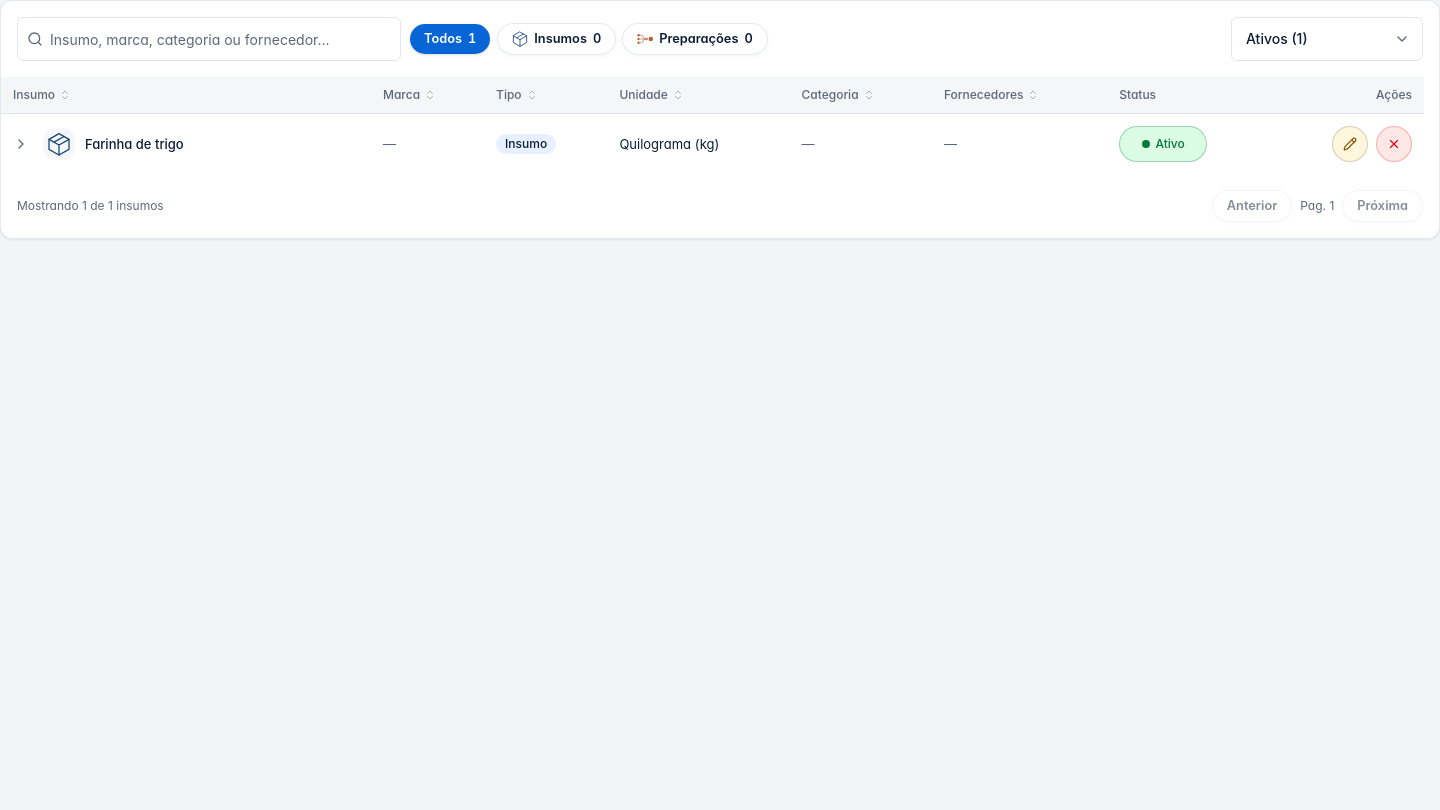
Scenario: edita INSUMO diretamente pela linha, antes de excluir, sem duplicar ao expandir
Click the button named "Editar" at (1350, 144), box [1332,126,1368,162]
(page scrolled)
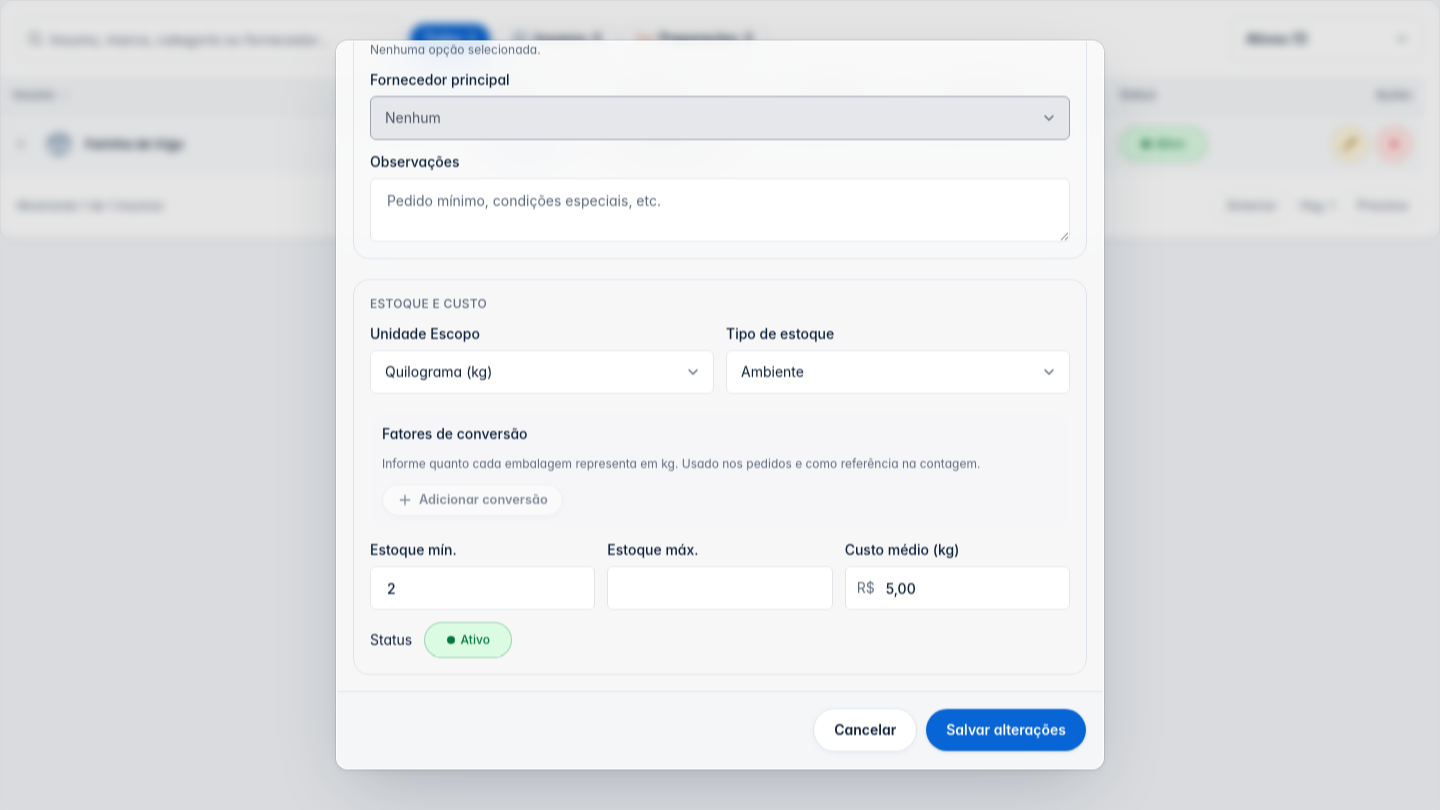
Click the button "Cancelar" at (865, 730), box [813,708,917,752]
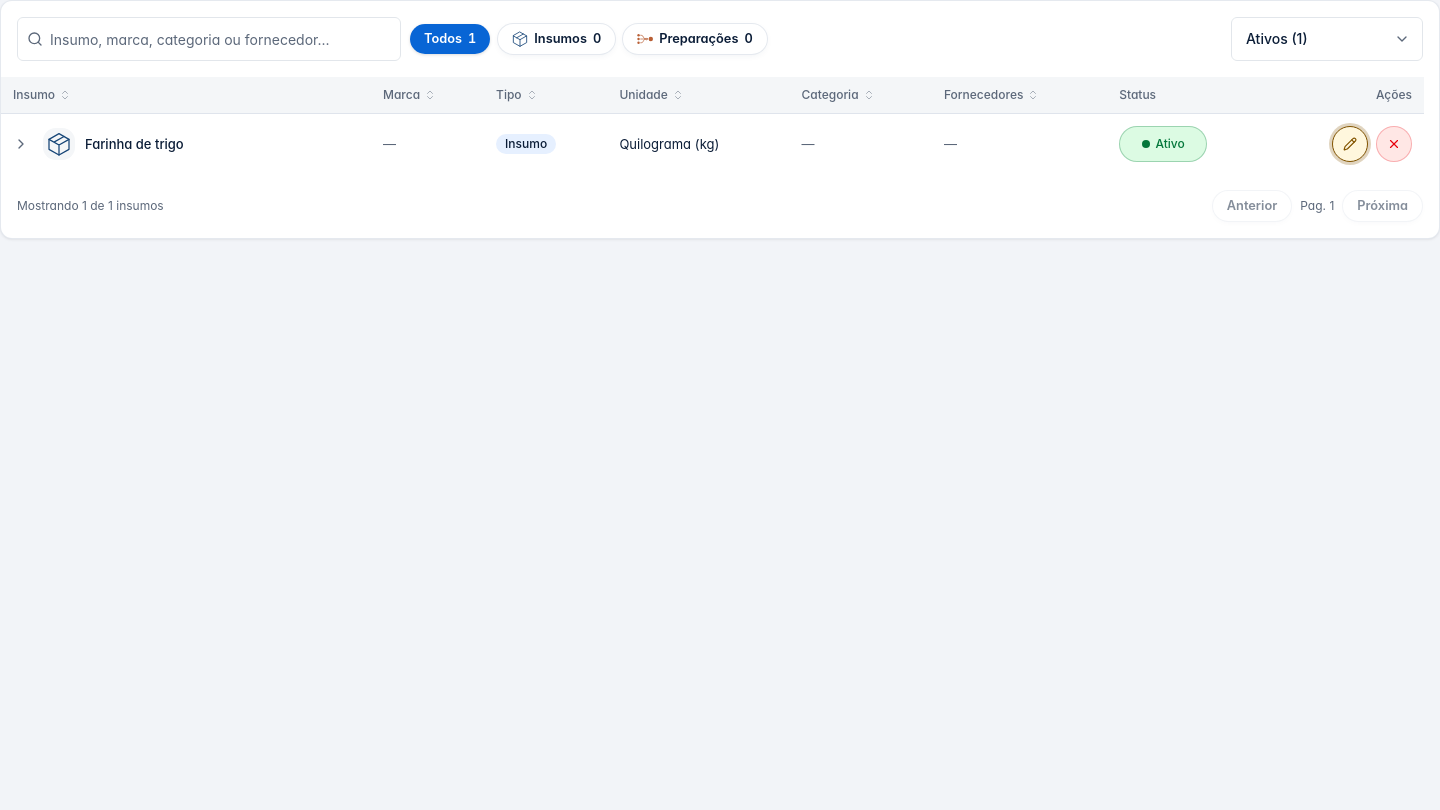
Click the button named "Abrir detalhes de Farinha de trigo" at (21, 144), box [9,132,33,156]
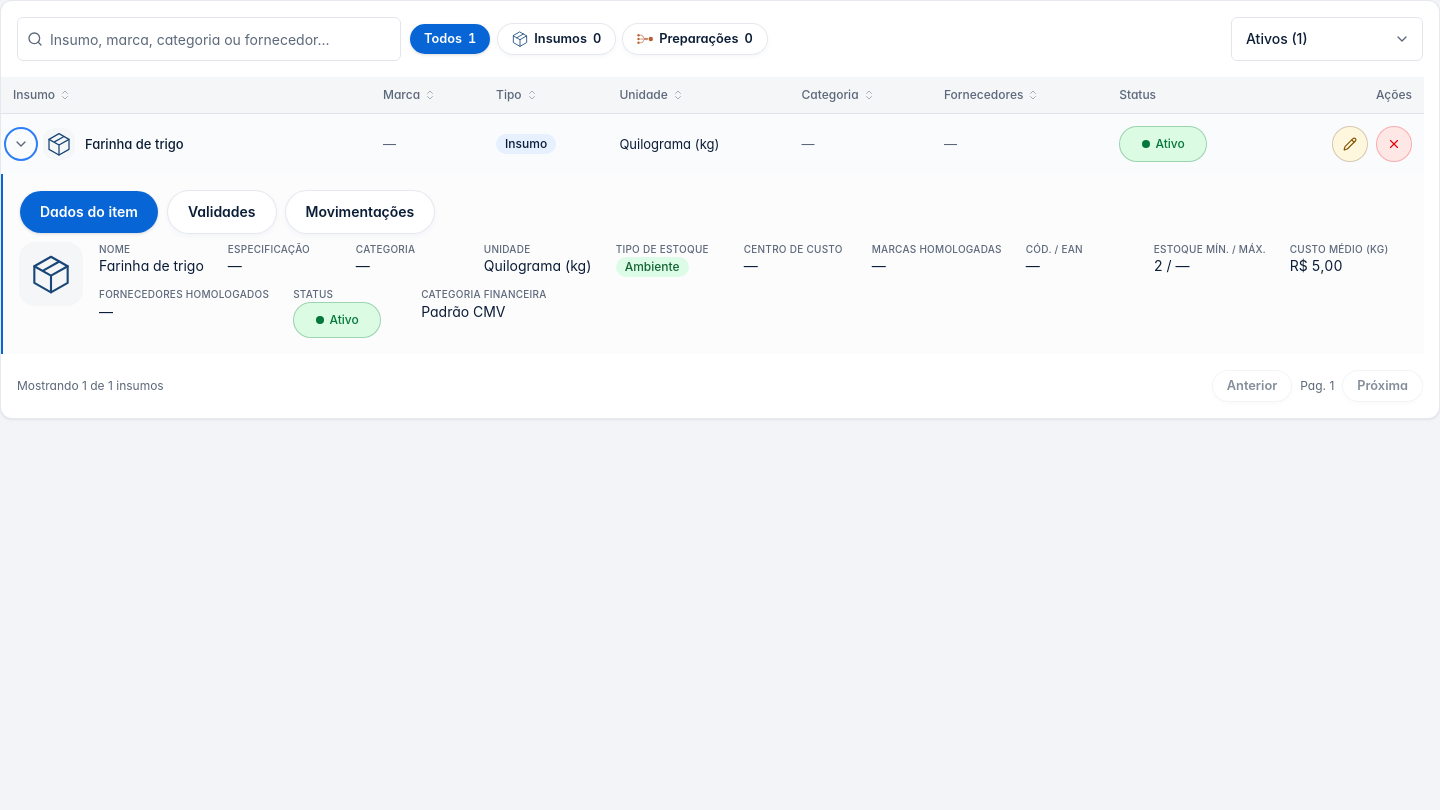
Click the button named "Editar" at (1350, 144), box [1332,126,1368,162]
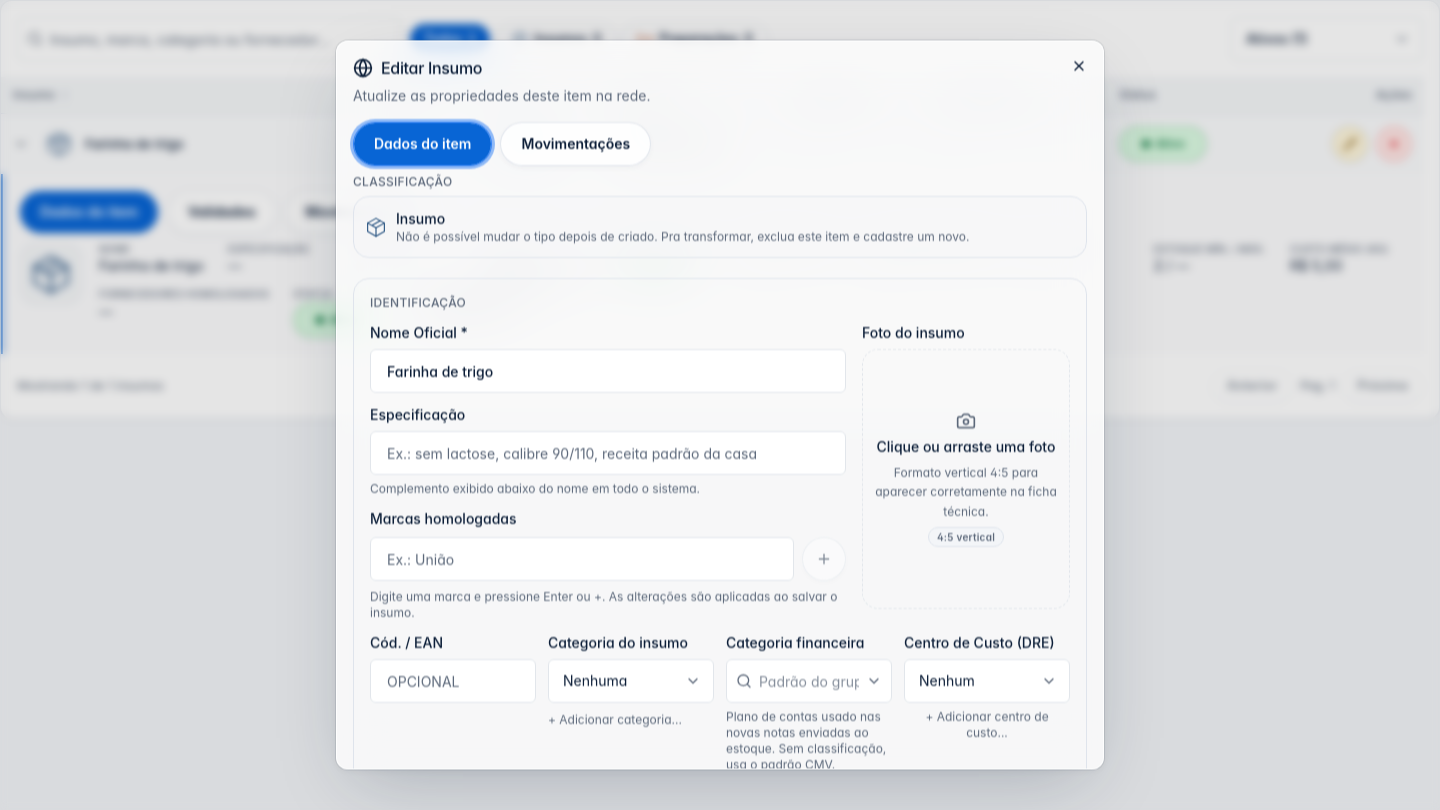
expect the dialog is shown: met, box [336,40,1104,770]
